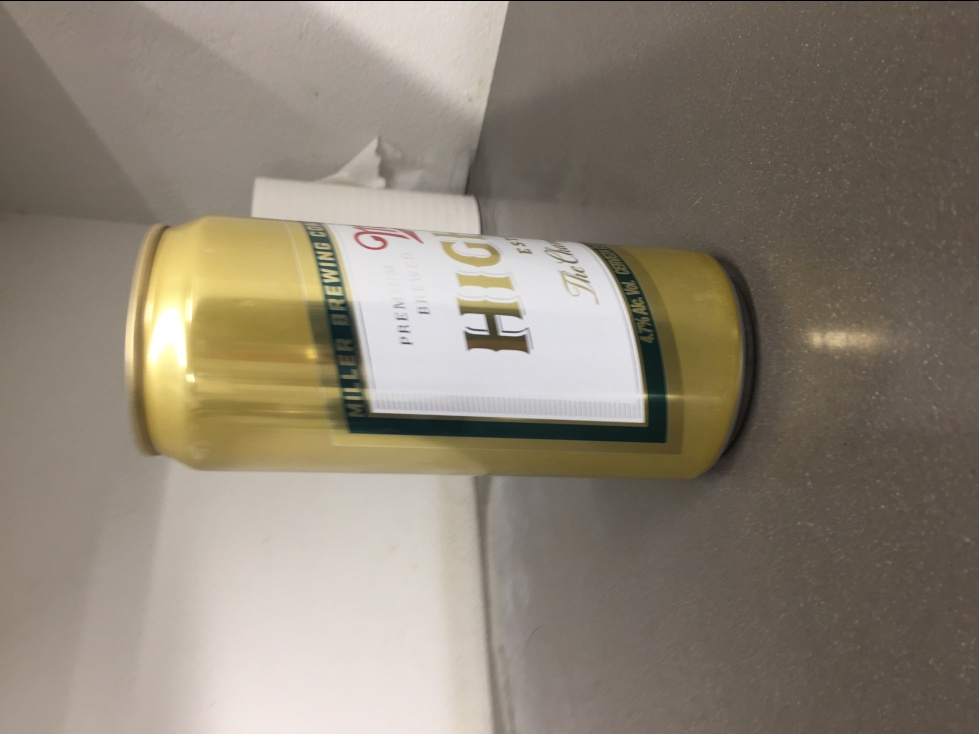miller: (124, 211, 750, 486)
